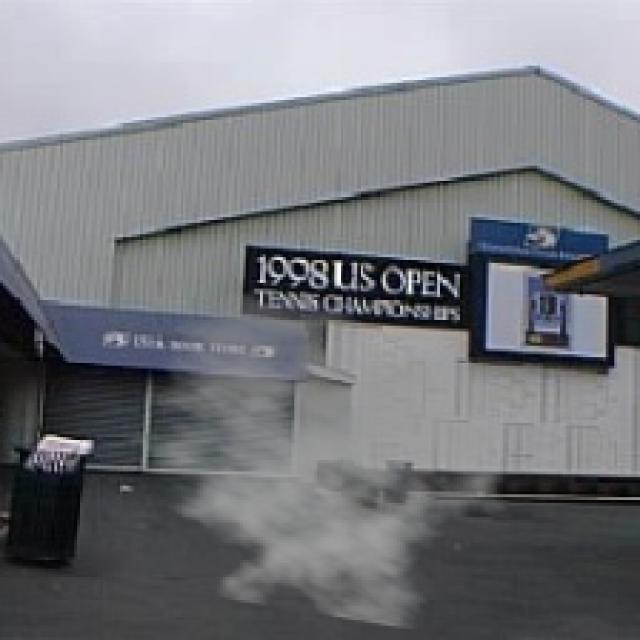smoke: (106, 286, 528, 631)
